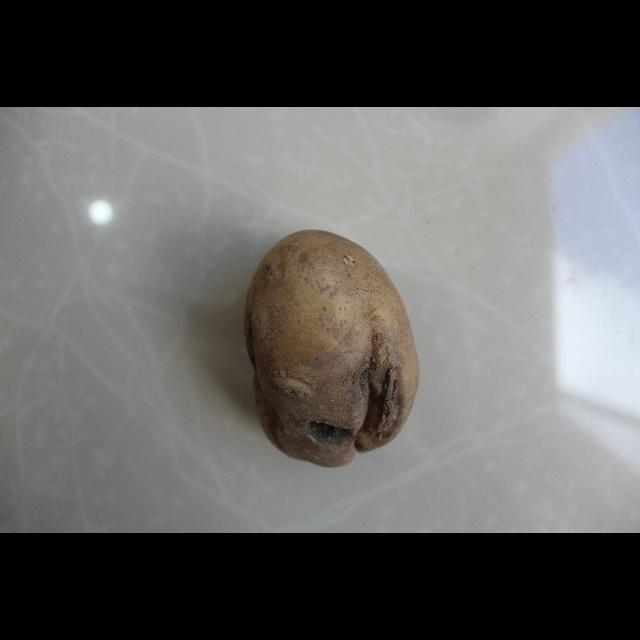Damaged potato: (218, 170, 400, 412)
